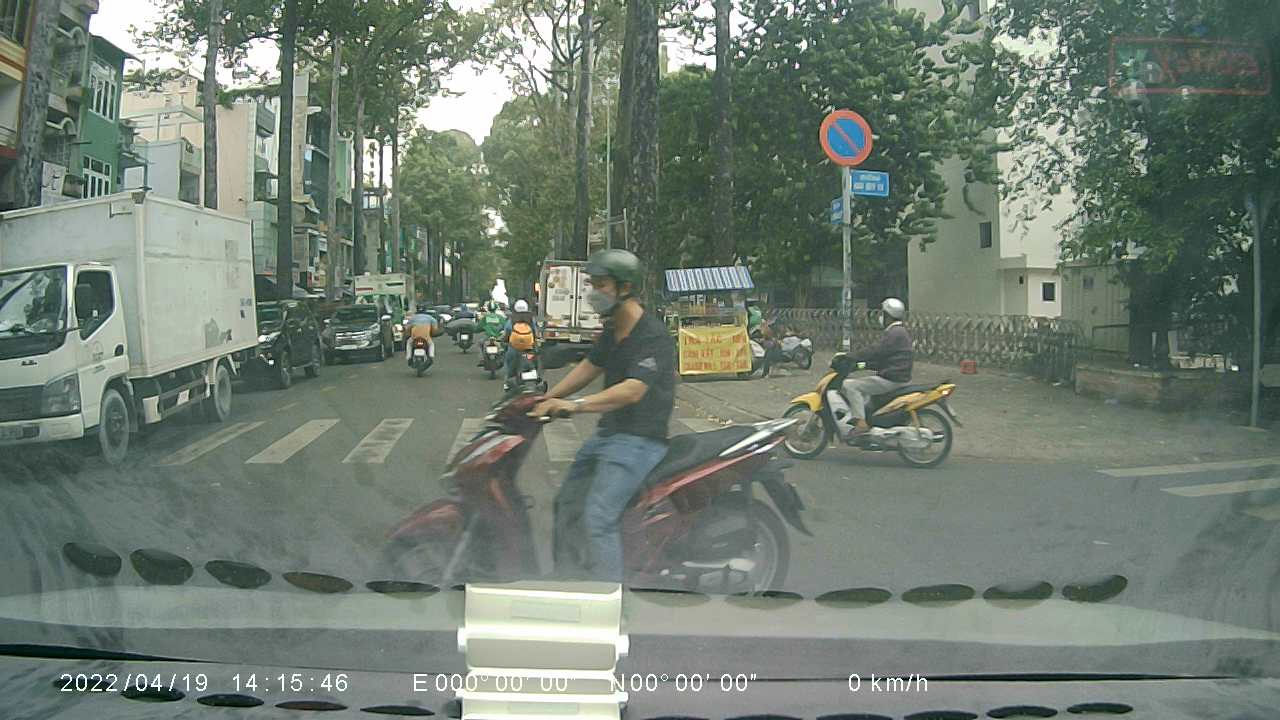Cam do xe: (817, 107, 873, 164)
